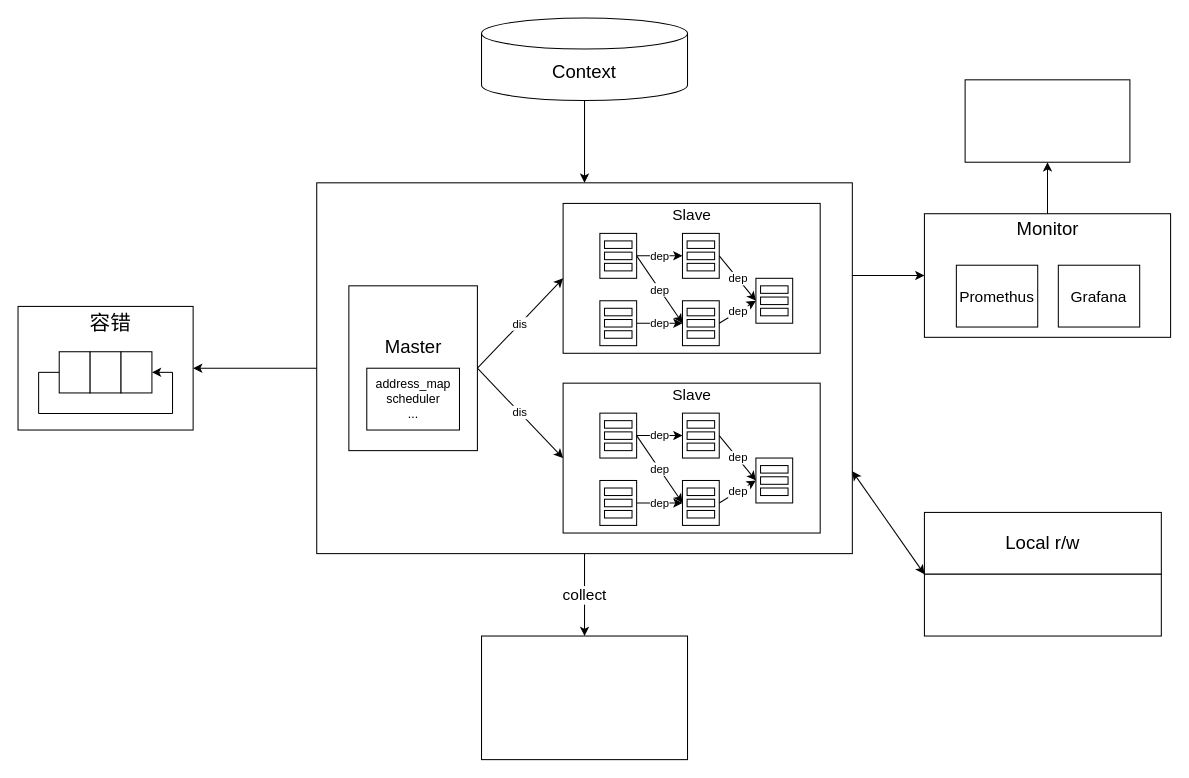
This 1189x778 diagram has some shape labels left out. Here are the shapes that lost their labels. From the top down, the centre of each, then its label:
At (1047,120): "Web界面".
At (1042,604): "hdfs r/w".
At (584,697): "Result Vec[a,b,c,...]".
